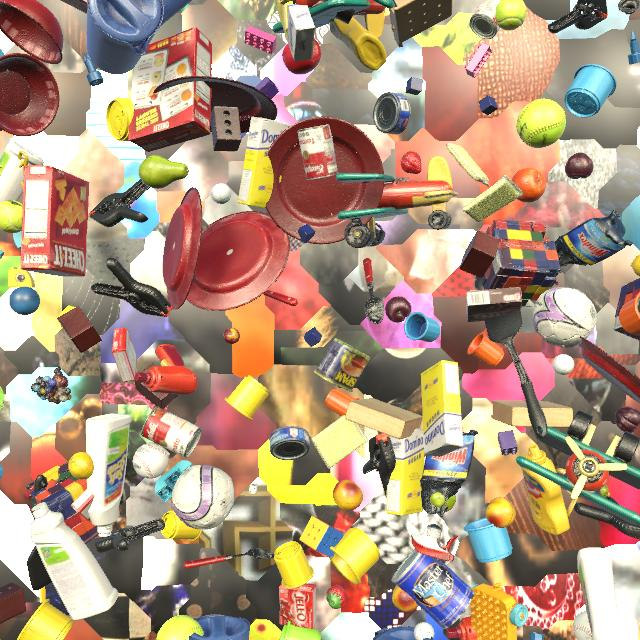ycb_002_master_chef_can: (392, 549, 475, 629)
ycb_003_cracker_box: (128, 27, 212, 152), (20, 165, 89, 277)
ycb_004_sugar_box: (237, 117, 291, 208), (421, 360, 463, 457), (386, 428, 424, 516), (274, 0, 315, 62)
ycb_005_tomato_soup_can: (141, 406, 202, 458), (298, 124, 338, 180), (469, 0, 502, 39), (0, 129, 2, 131)
ycb_006_mustard_bottle: (522, 444, 570, 535), (329, 16, 387, 71)
ycb_007_tuna_fish_can: (373, 92, 411, 135), (269, 426, 310, 460)
ycb_008_pudding_box: (466, 287, 522, 322)
ycb_009_gelatin_box: (279, 583, 316, 629), (112, 328, 137, 382), (70, 488, 95, 522), (61, 0, 87, 14)
ycb_010_potted_meat_can: (314, 338, 370, 392)
ycb_012_strawberry: (326, 585, 348, 609), (400, 151, 422, 174)
ycb_013_apple: (282, 39, 321, 75)
ycb_014_lemon: (68, 452, 94, 479), (631, 254, 640, 276)
ycb_015_peach: (486, 497, 516, 528), (333, 480, 363, 511), (392, 585, 418, 612)
ycb_016_pear: (138, 155, 189, 189), (430, 492, 456, 513), (600, 484, 609, 498)
ycb_017_orange: (511, 168, 546, 203)
ycb_018_plum: (565, 152, 594, 179), (385, 296, 411, 323), (615, 407, 640, 433)
